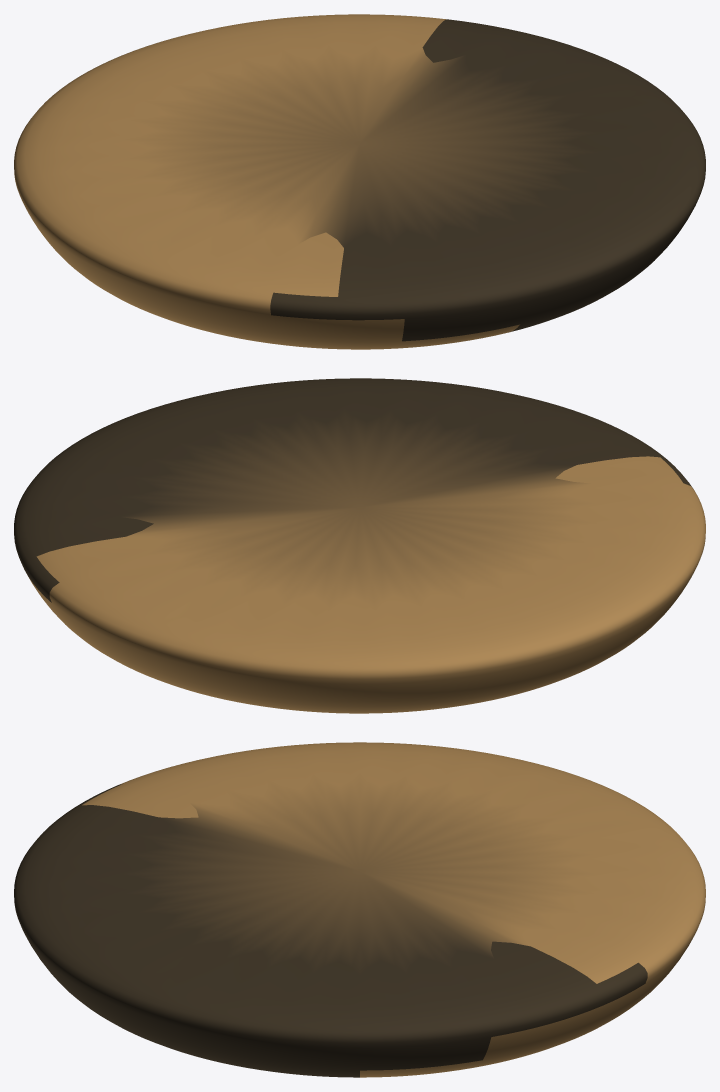
The model's file is bottom.fbx.
3 views of the same model, one above another, from view 1: azimuth 30°, elevation 25°; view 2: azimuth 150°, elevation 25°; view 3: azimuth 270°, elevation 25° (orthographic).
Visible parts, largest first — view 1: Sphere.000; view 2: Sphere.000; view 3: Sphere.000.
Part boxes in pixels (x1,y1,x2,y2): Sphere.000: (14, 14, 705, 349); Sphere.000: (14, 378, 705, 713); Sphere.000: (14, 742, 705, 1077).
Bounding box in the file's own units: 197 × 31.21 × 197.
